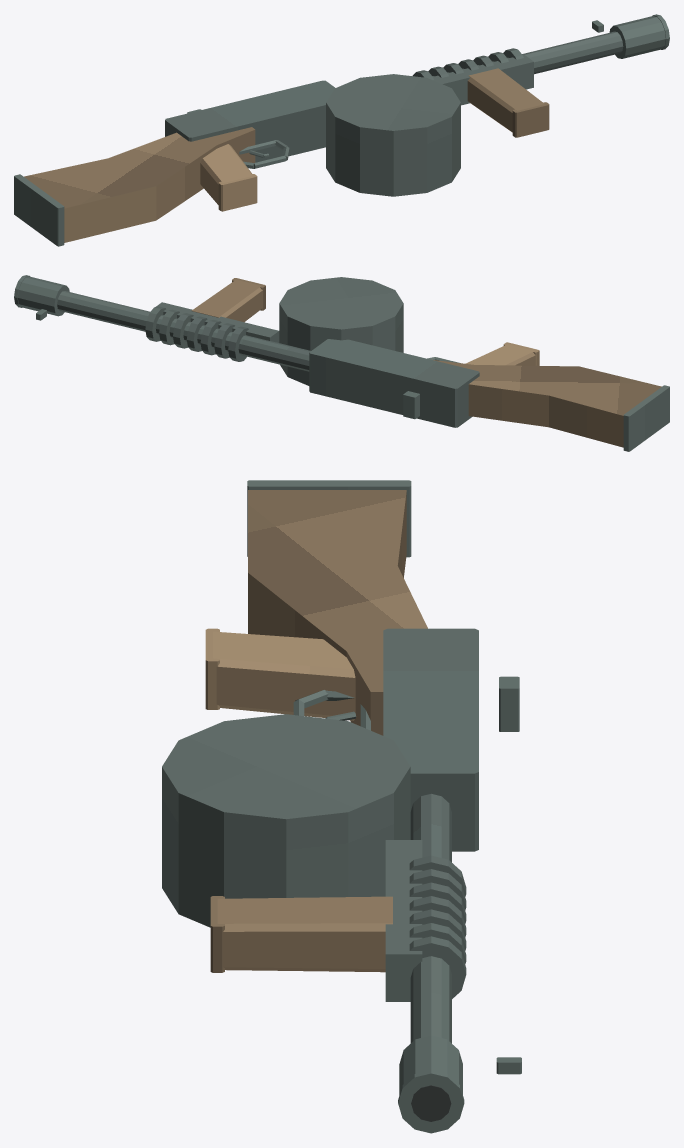
File: weapon-thompson.glb
3 renders of one model, top to bottom at view 1: azimuth 30°, elevation 25°; view 2: azimuth 150°, elevation 25°; view 3: azimuth 270°, elevation 25°, orthographic. The views are drawn at different scales.
Parts seen in each view (by area): view 1: weapon-thompson/wide-drum, weapon-thompson/shaped-solid-butt, weapon-thompson/full-depth-receiver, weapon-thompson/wood-vertical-front-grip, weapon-thompson/butt-end-plate, weapon-thompson/round-barrel, weapon-thompson/distinct-eight-sided-pistol-grip, weapon-thompson/distinct-wide-muzzle-compensator, weapon-thompson/front-grip-mount, weapon-thompson/distinct-eight-sided-pistol-grip-heel, weapon-thompson/wood-vertical-front-grip-heel; view 2: weapon-thompson/shaped-solid-butt, weapon-thompson/full-depth-receiver, weapon-thompson/wide-drum, weapon-thompson/round-barrel, weapon-thompson/butt-end-plate, weapon-thompson/wood-vertical-front-grip, weapon-thompson/distinct-wide-muzzle-compensator, weapon-thompson/front-grip-mount, weapon-thompson/distinct-eight-sided-pistol-grip, weapon-thompson/barrel-cooling-ring-0, weapon-thompson/rear-sight, weapon-thompson/barrel-cooling-ring-6 (+5 smaller); view 3: weapon-thompson/wide-drum, weapon-thompson/shaped-solid-butt, weapon-thompson/full-depth-receiver, weapon-thompson/wood-vertical-front-grip, weapon-thompson/distinct-eight-sided-pistol-grip, weapon-thompson/round-barrel, weapon-thompson/front-grip-mount, weapon-thompson/distinct-wide-muzzle-compensator, weapon-thompson/distinct-wide-muzzle-compensator-end-rim, weapon-thompson/butt-end-plate, weapon-thompson/barrel-cooling-ring-6, weapon-thompson/rear-sight (+1 smaller).
Boxes of the visible parts, x1,y1,x2,y2 form: weapon-thompson/wide-drum: (326,74,460,196); weapon-thompson/shaped-solid-butt: (24,127,255,242); weapon-thompson/full-depth-receiver: (165,80,334,162); weapon-thompson/wood-vertical-front-grip: (467,68,544,132); weapon-thompson/butt-end-plate: (14,174,64,246); weapon-thompson/round-barrel: (432,31,623,76); weapon-thompson/distinct-eight-sided-pistol-grip: (200,144,252,204); weapon-thompson/distinct-wide-muzzle-compensator: (609,16,665,58); weapon-thompson/front-grip-mount: (433,54,533,105); weapon-thompson/distinct-eight-sided-pistol-grip-heel: (218,174,257,211); weapon-thompson/wood-vertical-front-grip-heel: (512,102,549,137); weapon-thompson/shaped-solid-butt: (432,359,661,447); weapon-thompson/full-depth-receiver: (309,339,479,427); weapon-thompson/wide-drum: (279,277,403,385); weapon-thompson/round-barrel: (57,291,310,371); weapon-thompson/butt-end-plate: (623,385,669,451); weapon-thompson/wood-vertical-front-grip: (191,279,262,322); weapon-thompson/distinct-wide-muzzle-compensator: (17,276,69,316); weapon-thompson/front-grip-mount: (156,302,279,342); weapon-thompson/distinct-eight-sided-pistol-grip: (465,344,535,365); weapon-thompson/barrel-cooling-ring-0: (228,326,248,361); weapon-thompson/rear-sight: (403,391,419,419); weapon-thompson/barrel-cooling-ring-6: (145,306,165,341); weapon-thompson/wide-drum: (162,714,410,927); weapon-thompson/shaped-solid-butt: (248,490,427,735); weapon-thompson/full-depth-receiver: (383,628,478,851); weapon-thompson/wood-vertical-front-grip: (217,896,392,972); weapon-thompson/distinct-eight-sided-pistol-grip: (213,631,355,720); weapon-thompson/round-barrel: (410,793,451,1043); weapon-thompson/front-grip-mount: (385,840,422,1001); weapon-thompson/distinct-wide-muzzle-compensator: (399,1035,462,1094); weapon-thompson/distinct-wide-muzzle-compensator-end-rim: (398,1070,464,1133); weapon-thompson/butt-end-plate: (247,480,411,557); weapon-thompson/barrel-cooling-ring-6: (409,936,466,998); weapon-thompson/rear-sight: (499,676,519,731).
Bounding box in the file's own units: 0.873 × 0.084 × 0.226.
3 materials, 3 textured.
